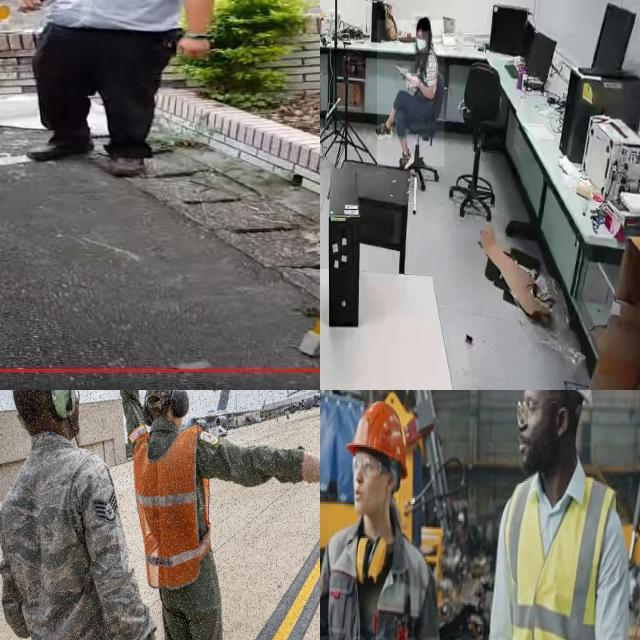Ear-protection: (7, 390, 86, 451), (139, 390, 197, 457), (352, 531, 389, 587)
face_mask: (416, 32, 428, 53)
glasses: (512, 390, 553, 425), (346, 452, 390, 476)
hand_noglove: (407, 73, 419, 88)
head_helmet: (344, 396, 411, 458)
head_nohelmet: (14, 390, 73, 410), (145, 390, 181, 420), (415, 16, 431, 32)
person: (107, 390, 320, 640), (463, 390, 636, 640), (0, 390, 161, 640), (320, 390, 452, 640), (377, 20, 445, 167)
shoes: (372, 116, 395, 143), (398, 145, 412, 175)
vest: (502, 462, 618, 640), (134, 432, 213, 600)
